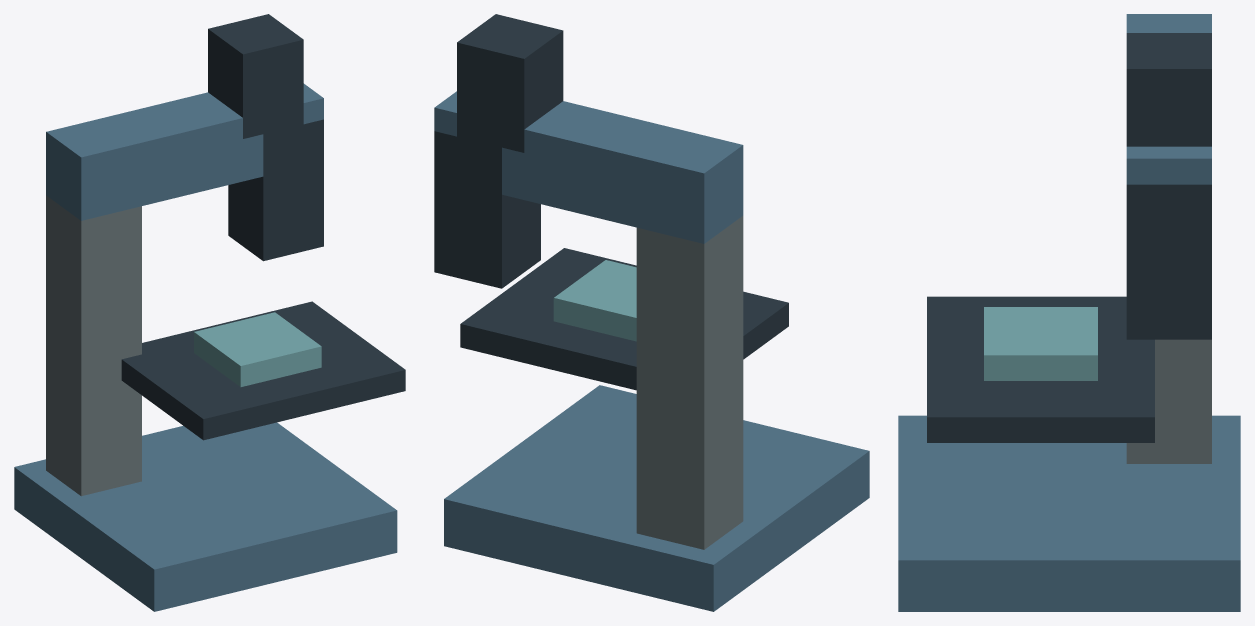
The model's file is security-20.glb.
3 views of the same model, side by side, from view 1: azimuth 30°, elevation 25°; view 2: azimuth 150°, elevation 25°; view 3: azimuth 270°, elevation 25° (orthographic). The views are drawn at different scales.
Parts seen in each view (by area): view 1: Forensics microscope; view 2: Forensics microscope; view 3: Forensics microscope.
Part boxes in pixels (<box>): Forensics microscope: <box>14,14,405,611</box>; Forensics microscope: <box>434,14,869,611</box>; Forensics microscope: <box>898,14,1240,611</box>.
Size of the model in its own units: 1.04 by 1.68 by 0.96.
